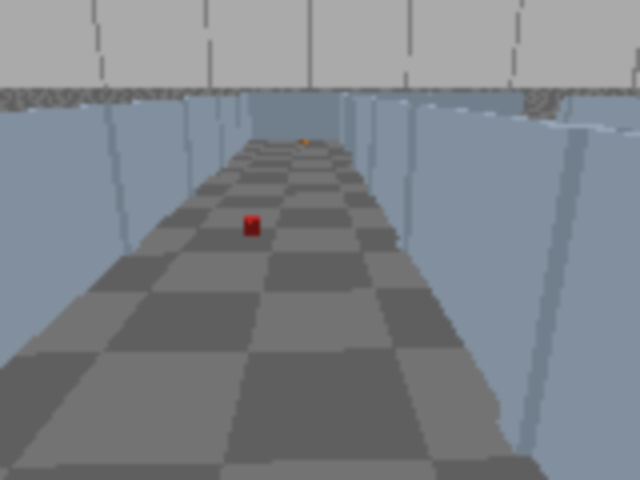puck: (242, 217, 261, 235)
